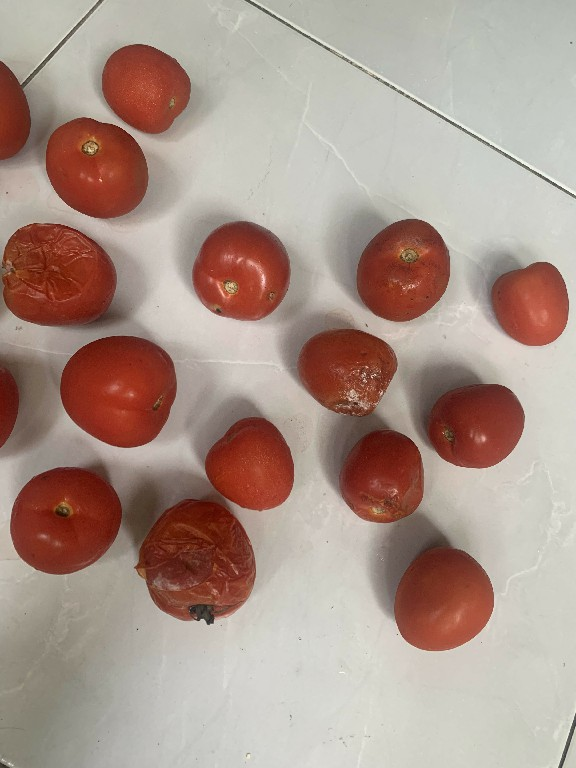NG: (129, 497, 255, 625), (0, 212, 118, 328), (184, 214, 290, 326), (291, 321, 395, 417), (334, 424, 419, 526)
OK: (52, 333, 182, 447), (36, 113, 156, 220), (390, 545, 503, 656), (10, 464, 120, 575), (201, 411, 306, 518), (355, 212, 456, 321), (97, 42, 190, 138), (481, 257, 574, 352), (420, 383, 522, 467)
